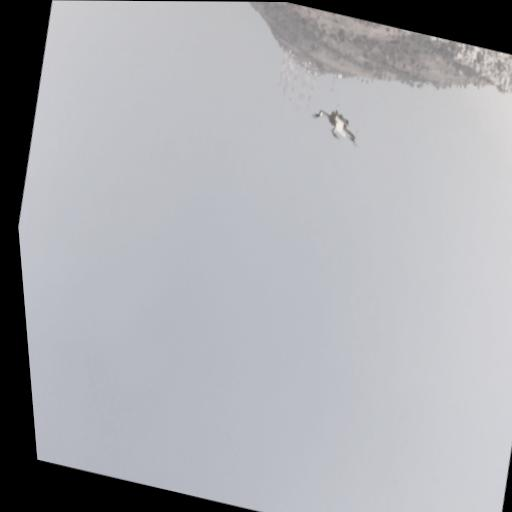drones: (302, 94, 369, 150)
